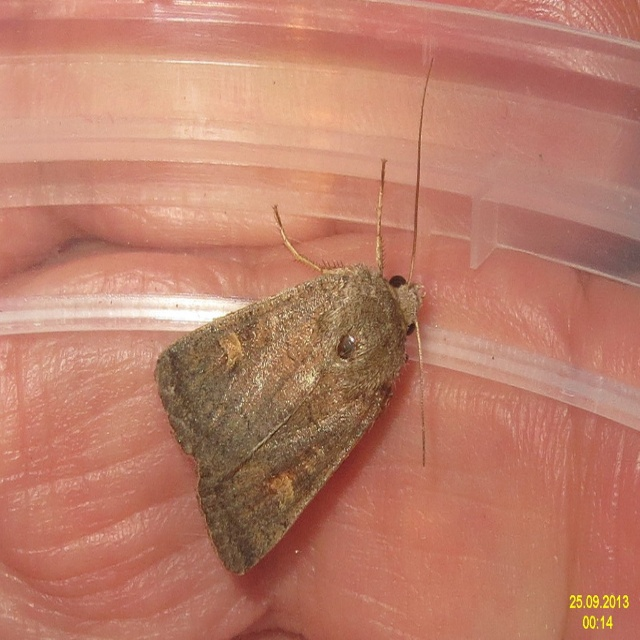Moths and butterflies: (152, 55, 436, 582)
